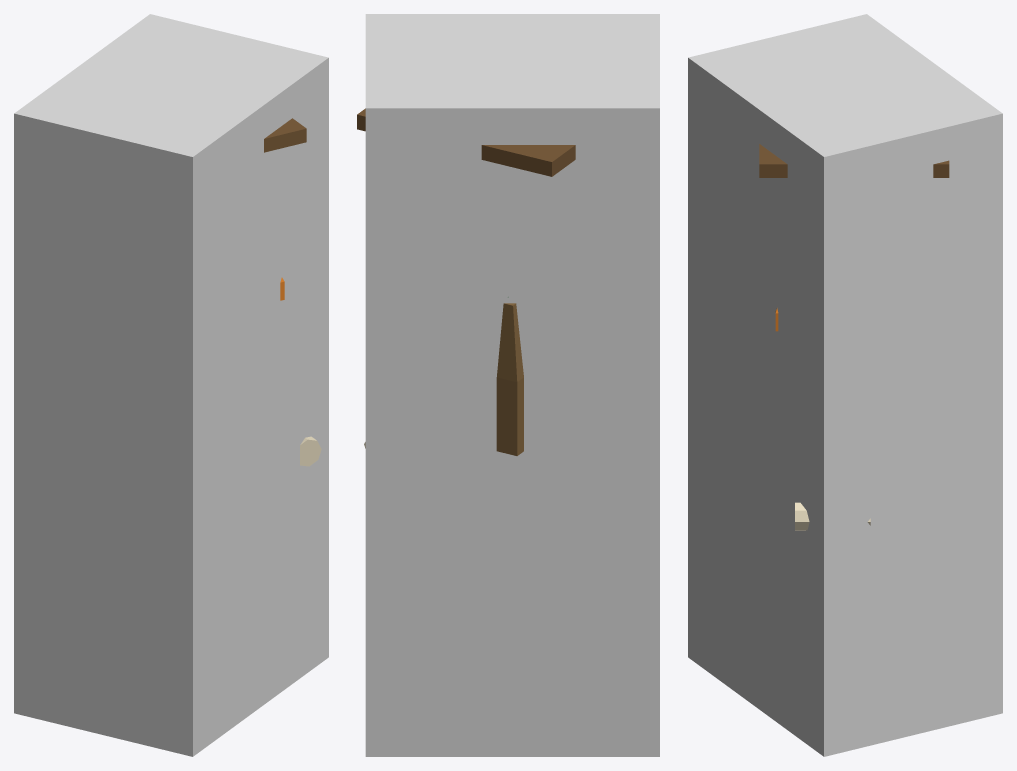
File: npc_guide.fbx
3 renders of one model, left to right at view 1: azimuth 30°, elevation 25°; view 2: azimuth 150°, elevation 25°; view 3: azimuth 270°, elevation 25°, orthographic. The views are drawn at different scales.
Visible parts, largest first — view 1: Root__0.00_3.00_0.04__2.47_6.00_1.87, Head__Torso__0.00_4.19_0.00; view 2: Root__0.00_3.00_0.04__2.47_6.00_1.87, Torso__Root__0.00_2.51_0.00, Head__Torso__0.00_4.19_0.00; view 3: Root__0.00_3.00_0.04__2.47_6.00_1.87, Head__Torso__0.00_4.19_0.00.
Part boxes in pixels (x1,y1,x2,y2): Root__0.00_3.00_0.04__2.47_6.00_1.87: (14, 14, 328, 756); Head__Torso__0.00_4.19_0.00: (264, 118, 306, 152); Root__0.00_3.00_0.04__2.47_6.00_1.87: (365, 14, 659, 756); Torso__Root__0.00_2.51_0.00: (496, 297, 523, 455); Head__Torso__0.00_4.19_0.00: (357, 108, 575, 176); Root__0.00_3.00_0.04__2.47_6.00_1.87: (688, 14, 1002, 756); Head__Torso__0.00_4.19_0.00: (759, 144, 949, 177).
Bounding box in the file's own units: 85.99 × 169 × 79.89.
1 material, 1 textured.
